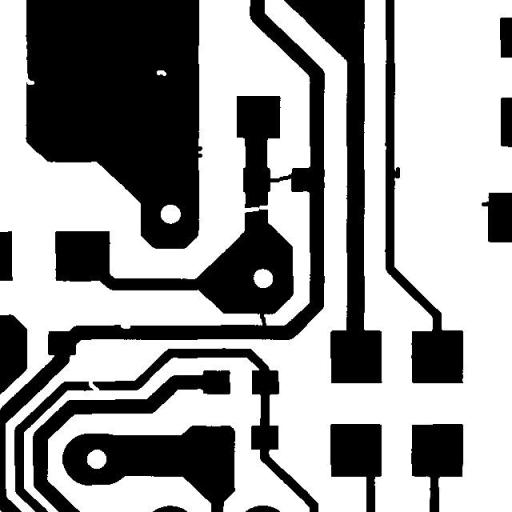mousebite: (14, 60, 42, 92), (112, 315, 138, 336)
open: (234, 196, 282, 221), (81, 372, 106, 399)
pin-hole: (148, 62, 174, 84)
short: (256, 166, 302, 190), (252, 302, 274, 334)
spur: (382, 159, 407, 186), (188, 138, 210, 165), (474, 194, 498, 214)
